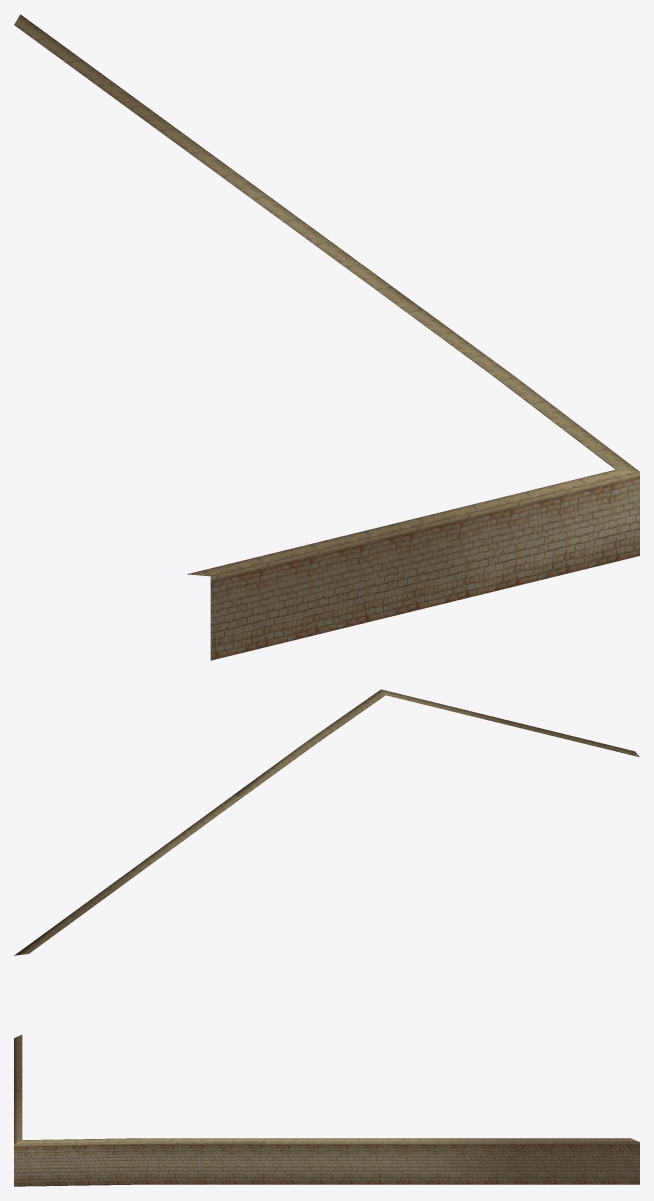
Rendered from M10_Z01_06_Wall03.glb.
3 renders of one model, top to bottom at view 1: azimuth 30°, elevation 25°; view 2: azimuth 150°, elevation 25°; view 3: azimuth 270°, elevation 25°, orthographic. The views are drawn at different scales.
Visible parts, largest first — view 1: M10_Z01_06_WALL03; view 2: M10_Z01_06_WALL03; view 3: M10_Z01_06_WALL03.
Part boxes in pixels (x1,y1,x2,y2): M10_Z01_06_WALL03: (14, 14, 639, 660); M10_Z01_06_WALL03: (14, 689, 639, 955); M10_Z01_06_WALL03: (14, 1034, 639, 1186).
Size of the model in its own units: 16.6 by 3.14 by 40.
Materials: 2 (2 with a texture image).
